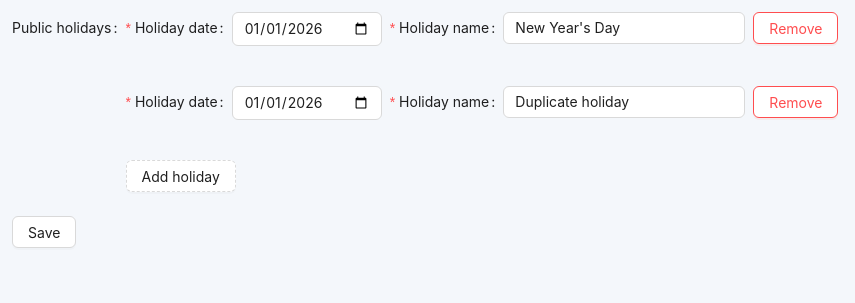
Test: PublicHolidayListField › rejects duplicate holiday dates
What coordinates should you click on to do the following:
click the button "Save"
I would click on:
 (44, 232)
Its box is top-left (12, 216), bottom-right (76, 248).
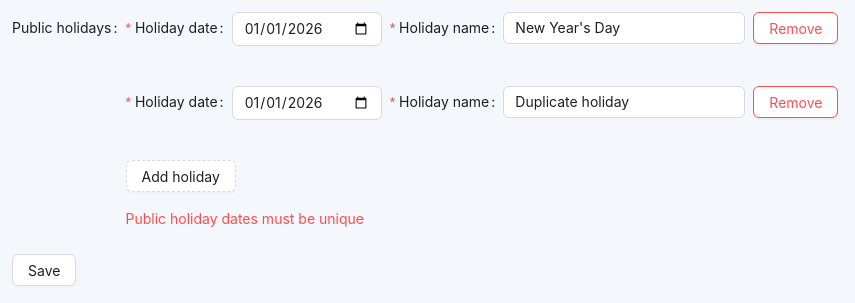
Expected: the text "Public holiday dates must be unique" is shown, top-left (126, 210), bottom-right (364, 227)
